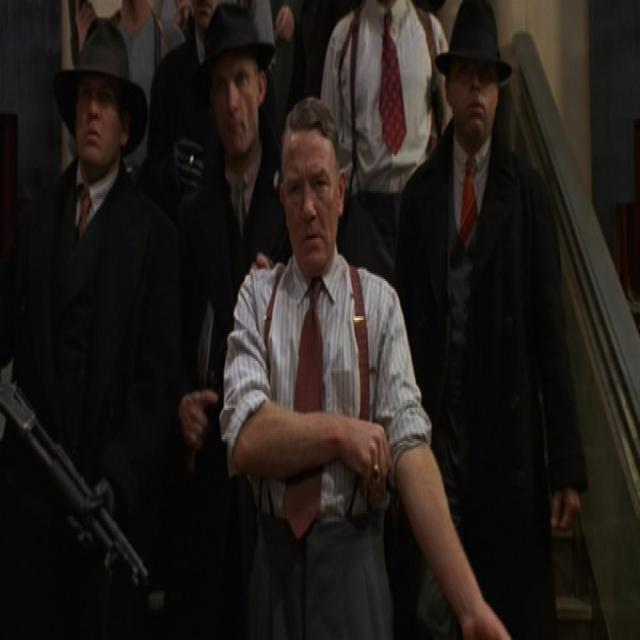rifle: (1, 369, 154, 603)
